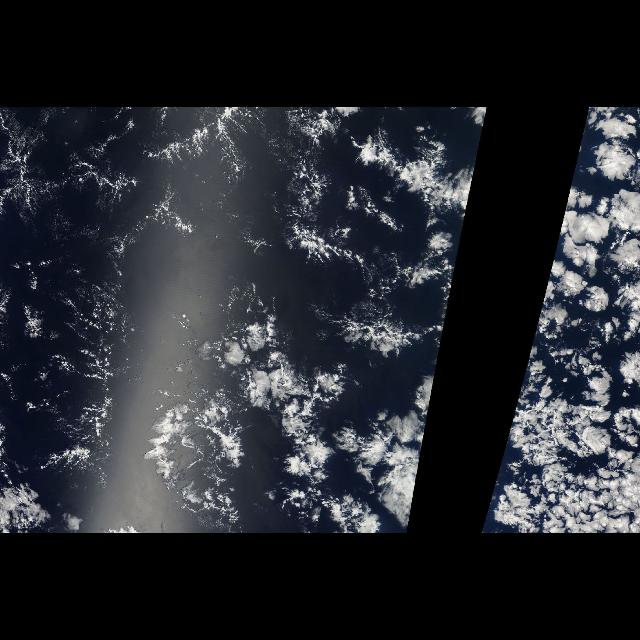Flower: (482, 110, 638, 530), (345, 110, 487, 530), (146, 314, 342, 530)
